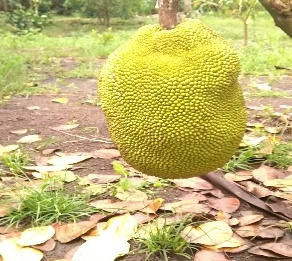Mit: (100, 20, 250, 178)
